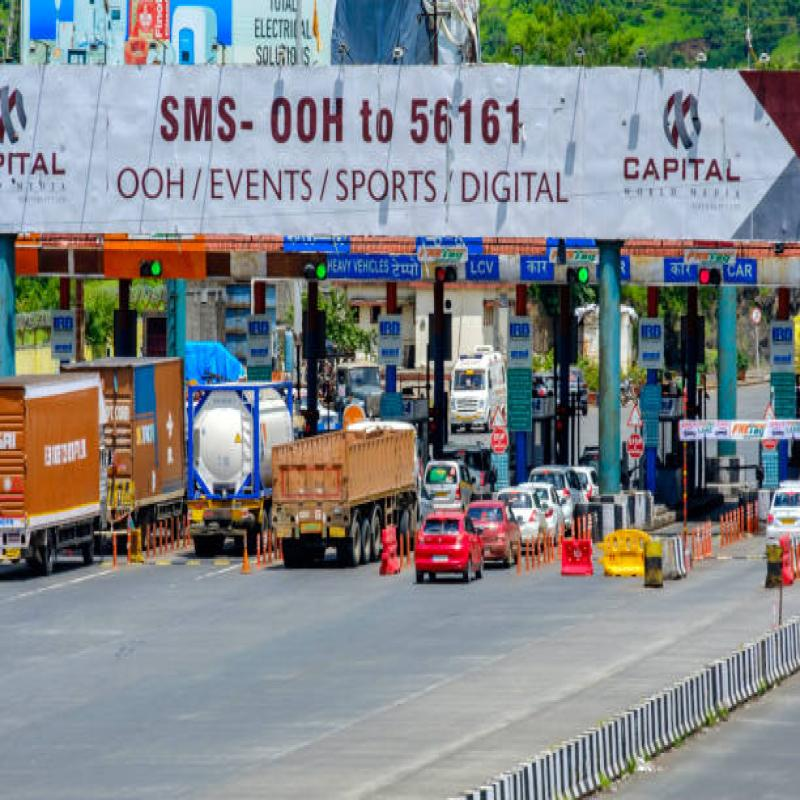car: (413, 502, 475, 587), (466, 485, 516, 582), (506, 462, 542, 555), (766, 473, 800, 559)
